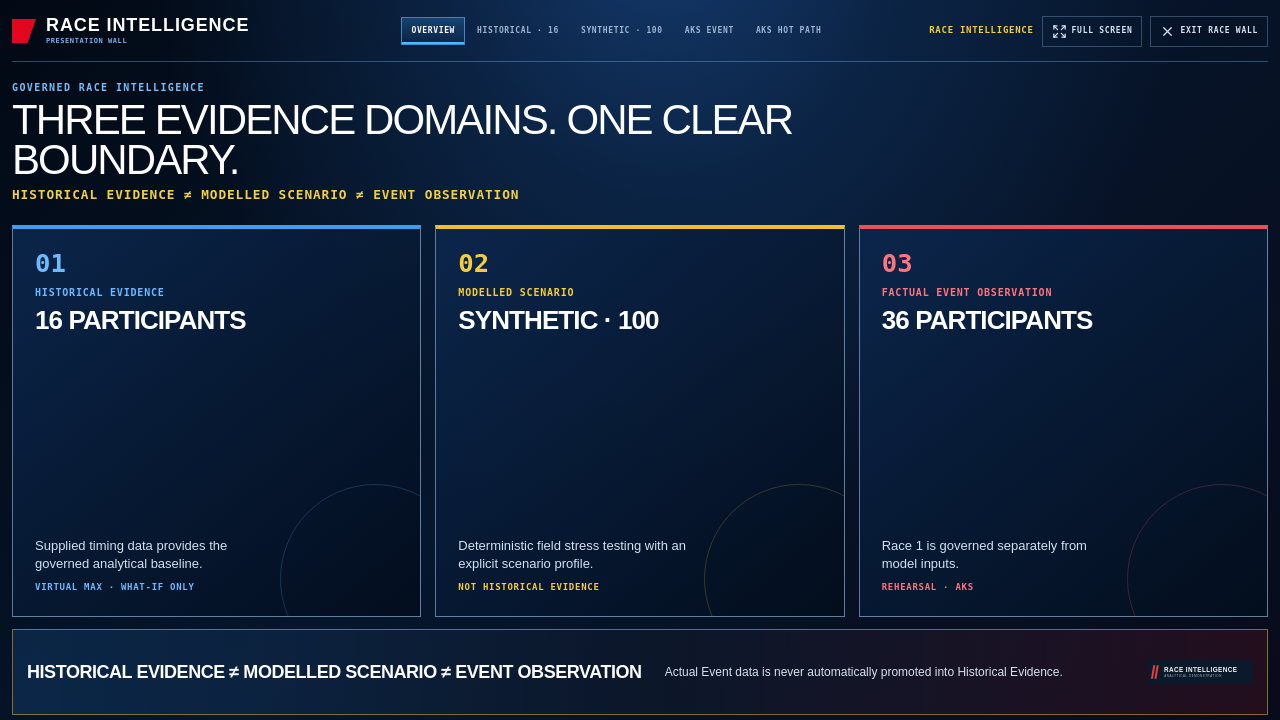
Scenario: RaceWall › changes mode and preserves the selected mode in the route query
Click the button "HISTORICAL · 16": (518, 31) x1=467 y1=17 x2=569 y2=45
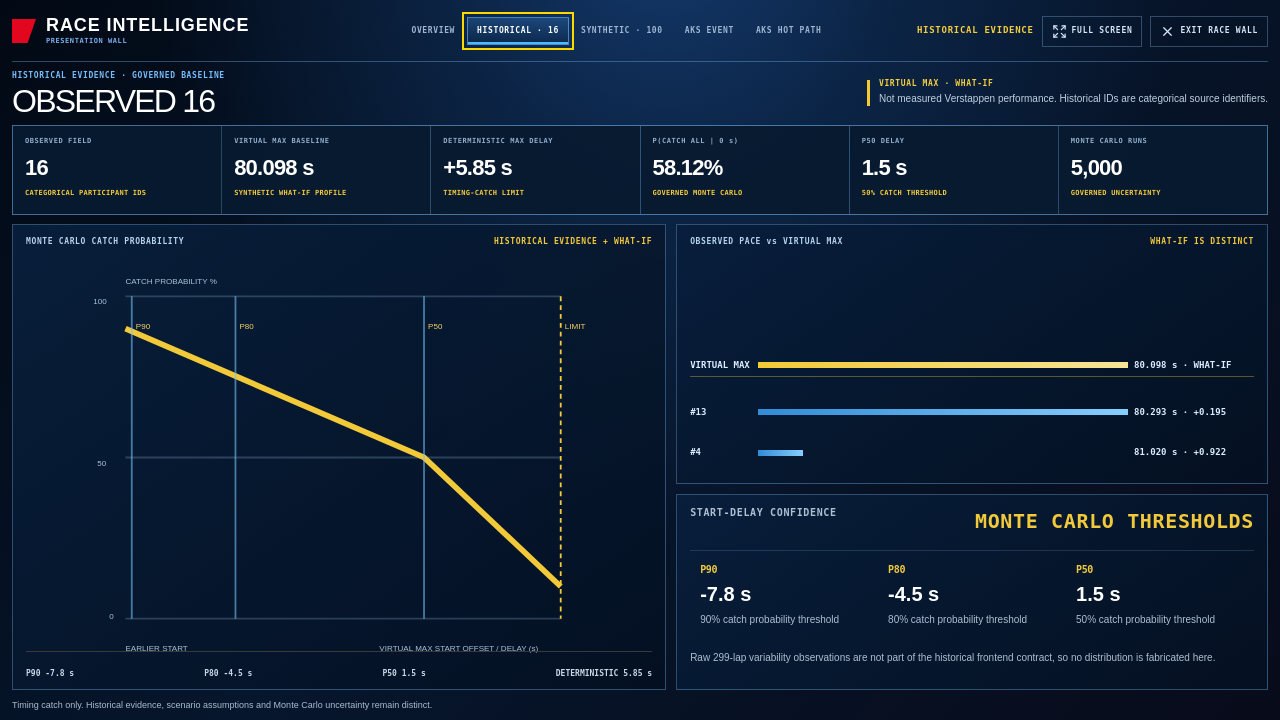
Expected: the heading "Observed 16" is shown, x1=12 y1=84 x2=225 y2=116
Expected: the text "MONTE CARLO CATCH PROBABILITY" is shown, x1=26 y1=236 x2=184 y2=248
Expected: the text "P(CATCH ALL | 0 s)" is shown, x1=652 y1=137 x2=738 y2=145
